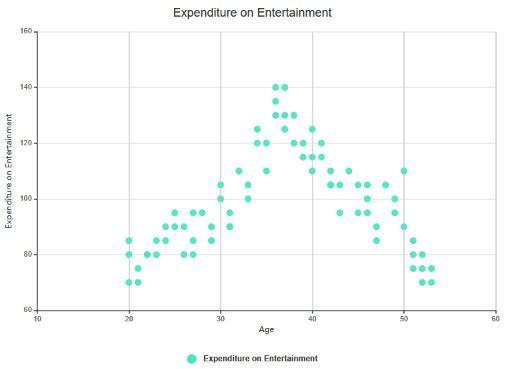axis: (32, 307, 501, 316), (32, 27, 42, 317)
point: (233, 166, 245, 177), (188, 249, 199, 260), (389, 193, 400, 204), (242, 180, 254, 190), (427, 277, 437, 289), (124, 236, 135, 246), (133, 263, 144, 273), (123, 277, 134, 287), (134, 276, 144, 287), (169, 208, 180, 218), (196, 207, 207, 217), (206, 235, 217, 245), (188, 234, 198, 245), (260, 165, 271, 175), (325, 180, 336, 190), (362, 194, 373, 204), (371, 222, 382, 232), (371, 235, 382, 245), (408, 249, 418, 260), (179, 220, 188, 232), (224, 208, 236, 217), (124, 249, 134, 259), (142, 249, 152, 259), (170, 221, 180, 231), (188, 207, 198, 217), (207, 221, 217, 231), (215, 194, 225, 204), (215, 180, 225, 190), (298, 152, 308, 162), (317, 152, 327, 162), (317, 137, 327, 147), (335, 208, 345, 218), (381, 180, 391, 190), (399, 222, 409, 232), (409, 236, 419, 246), (418, 249, 428, 259), (427, 263, 437, 273), (152, 249, 161, 260), (161, 235, 170, 246), (225, 221, 234, 232), (307, 125, 318, 134), (418, 277, 427, 288), (151, 236, 160, 246), (180, 249, 189, 259), (253, 137, 262, 147), (253, 125, 263, 134), (289, 138, 298, 148), (308, 152, 317, 162), (308, 166, 317, 176), (290, 110, 299, 120), (271, 96, 280, 106), (336, 179, 345, 189), (363, 180, 373, 189), (353, 208, 363, 217), (363, 207, 372, 217), (390, 208, 400, 217), (244, 194, 253, 203), (262, 138, 271, 147), (271, 111, 280, 120), (281, 111, 290, 120), (271, 83, 280, 92), (344, 166, 353, 175), (353, 181, 362, 190), (418, 264, 427, 273), (161, 222, 171, 230), (280, 125, 290, 133), (280, 83, 290, 91), (326, 167, 336, 175), (400, 166, 408, 176), (299, 139, 308, 147), (409, 264, 417, 273)
